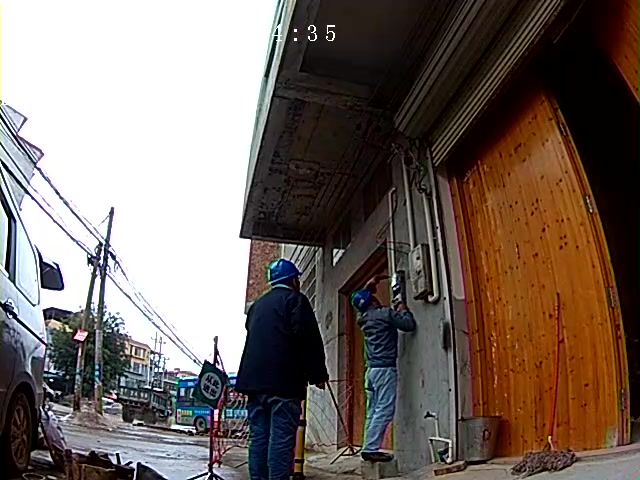halt: (271, 262, 305, 291), (354, 291, 384, 314)
